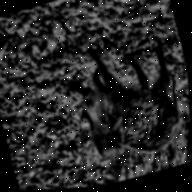boar: (65, 26, 191, 173)
